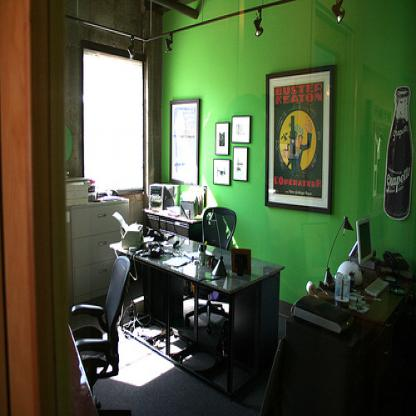chair: (71, 255, 131, 415), (182, 206, 237, 335)
tvmonitor: (346, 215, 375, 262)
